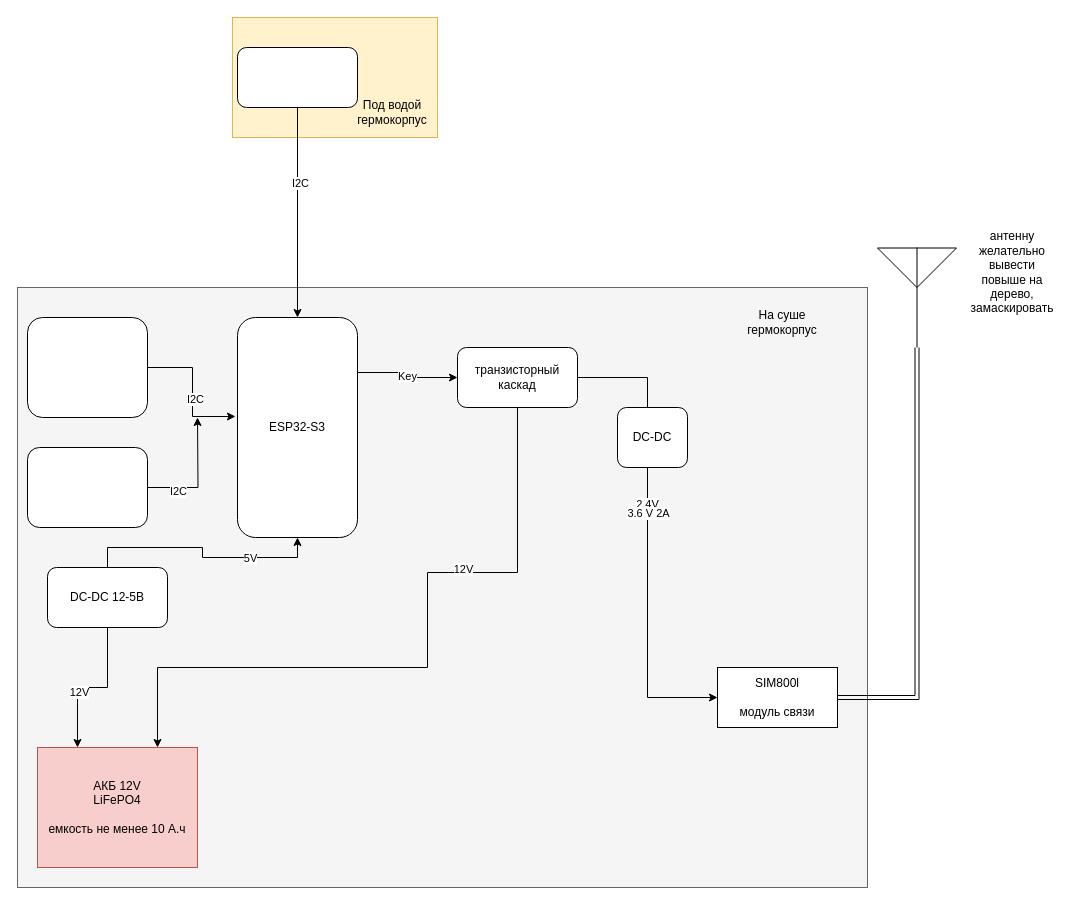
This 1075x905 diagram has some shape labels left out. Here are the shapes that lost their labels. From the top down, the box of each, then its label:
(236, 46, 358, 108): Датчик давления воды
(26, 316, 148, 418): Датчик температуры, атм.давления BME280
(26, 446, 148, 528): Датчик точного времени DS3231
